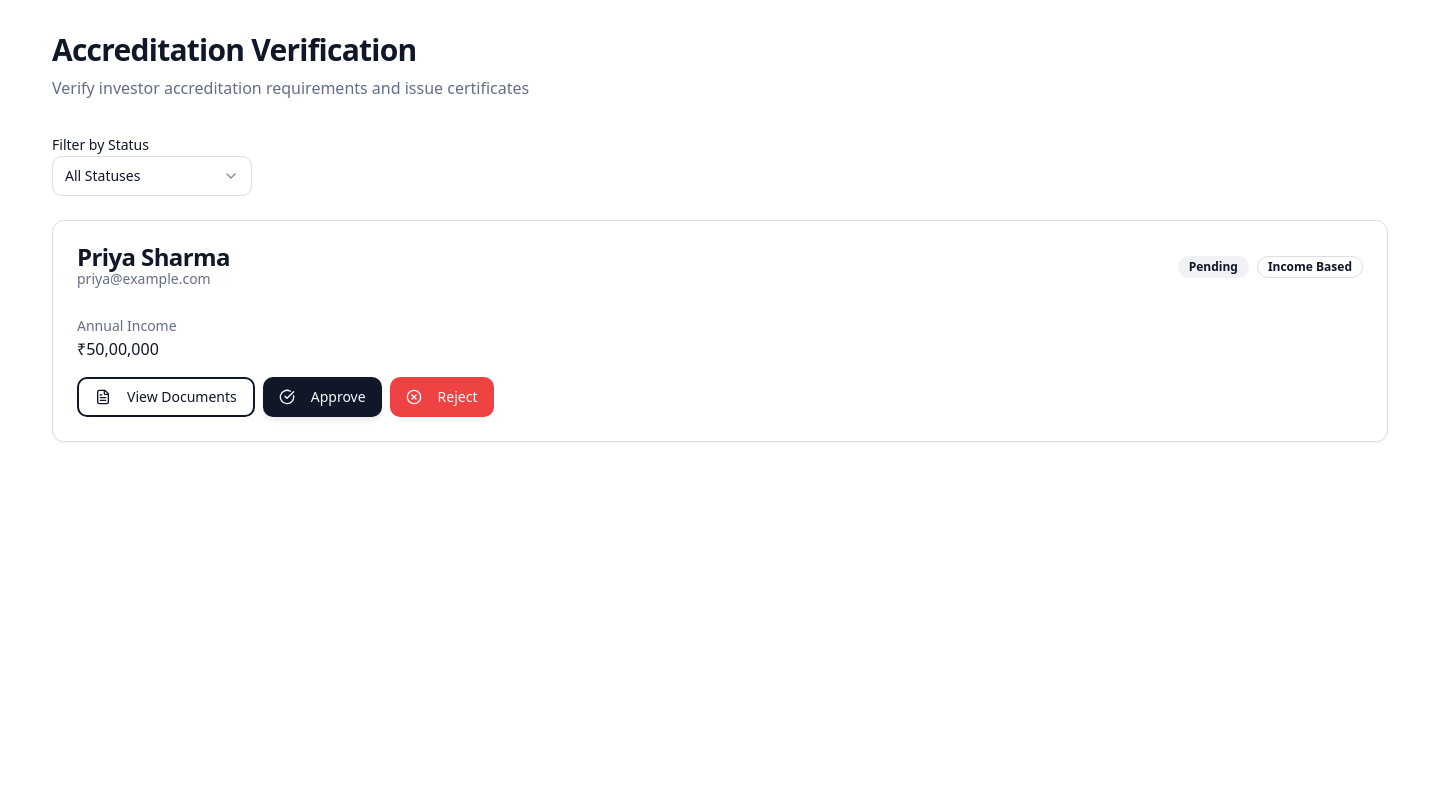
US-COMPLIANCE-003: Verify Accredited Investor Status › Verification Actions › should allow marking investor as accredited
The width and height of the screenshot is (1440, 810).
Check: the text "Priya Sharma" is shown, box [77,245,230,269]
Click the Approve button to open the dialog
Click the button "Approve" at (322, 397), box [263,377,382,417]
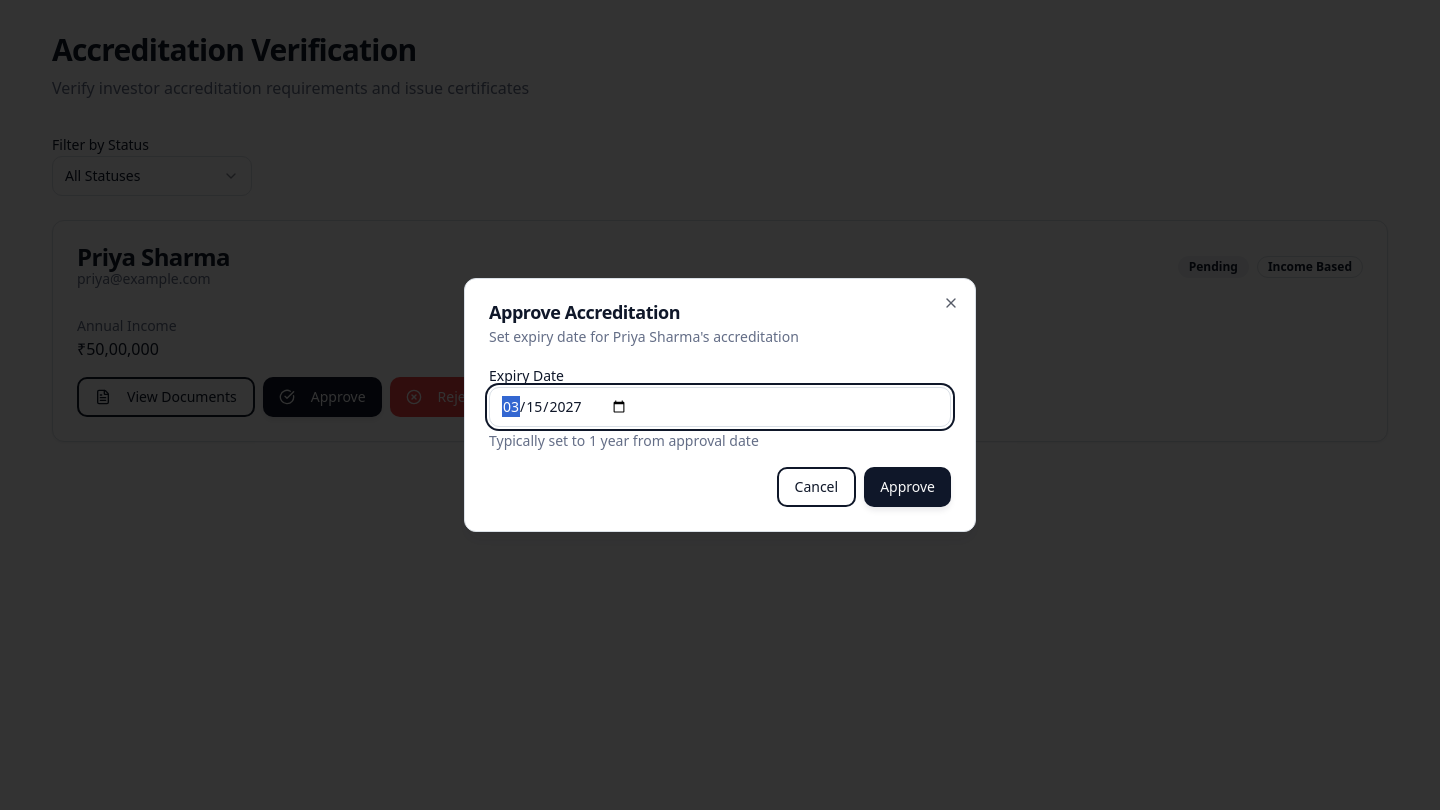
Check: the date field labelled "Expiry Date" is shown, box [489,387,951,427]
